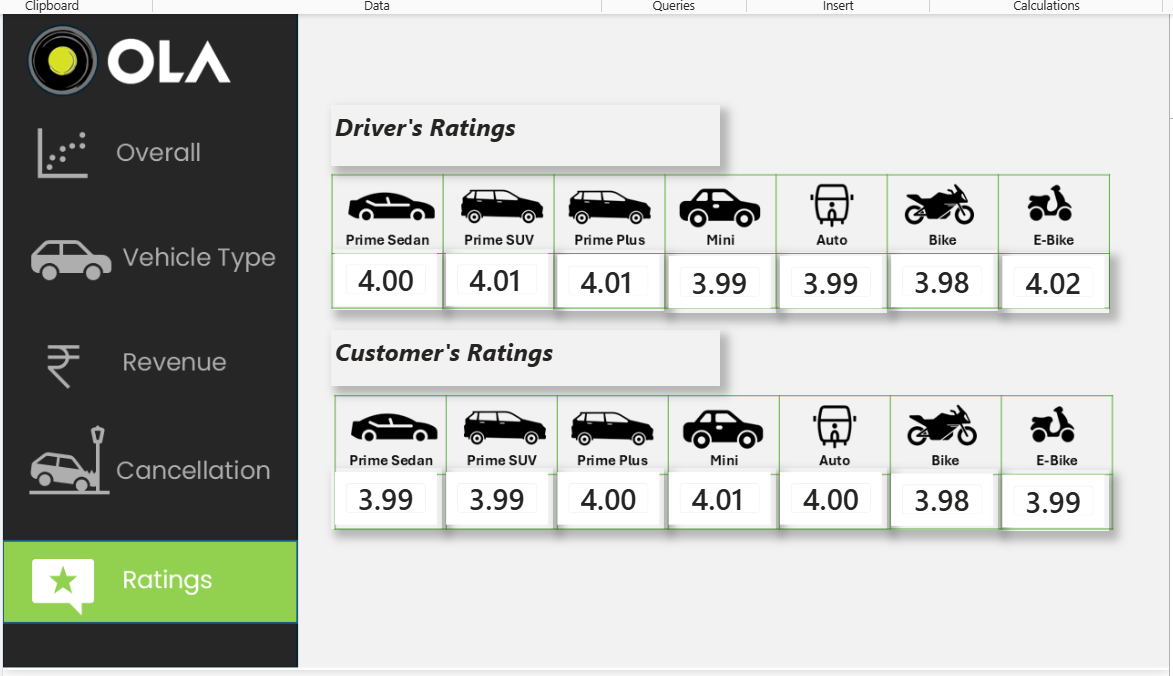

The dashboard page shown, as its layout file describes it:
{"tool":"powerbi","page":{"name":"Ratings","canvas":[1280,720],"ordinal":4},"visuals":[{"type":"actionButton","box":[0,200.3,325.7,114.6],"z":0},{"type":"actionButton","box":[0,109.8,325.7,114.6],"z":1000},{"type":"actionButton","box":[0,325.7,325.7,114.6],"z":2000},{"type":"actionButton","box":[0,440.4,325.7,114.6],"z":3000},{"type":"actionButton","box":[0,564.6,325.7,114.6],"z":4000},{"type":"cardVisual","fields":{"Data":["Avg(July.Driver_Ratings)"]},"box":[360,258.3,122.1,67.3],"z":5000},{"type":"cardVisual","fields":{"Data":["Avg(July.Driver_Ratings)"]},"box":[482.1,258.3,122.1,67.3],"z":6000},{"type":"cardVisual","fields":{"Data":["Avg(July.Driver_Ratings)"]},"box":[604.2,259.8,122.1,67.3],"z":7000},{"type":"cardVisual","fields":{"Data":["Avg(July.Driver_Ratings)"]},"box":[726.2,261.4,122.1,67.3],"z":8000},{"type":"cardVisual","fields":{"Data":["Avg(July.Driver_Ratings)"]},"box":[848.3,261.4,122.1,67.3],"z":9000},{"type":"cardVisual","fields":{"Data":["Avg(July.Driver_Ratings)"]},"box":[970.4,259.8,122.1,67.3],"z":10000},{"type":"cardVisual","fields":{"Data":["Avg(July.Driver_Ratings)"]},"box":[1092.5,261.4,122.1,67.3],"z":11000},{"type":"cardVisual","fields":{"Data":["Avg(July.Customer_Rating)"]},"box":[360,497.7,122.1,67.3],"z":12000},{"type":"cardVisual","fields":{"Data":["Avg(July.Customer_Rating)"]},"box":[482.1,497.7,122.1,67.3],"z":13000},{"type":"cardVisual","fields":{"Data":["Avg(July.Customer_Rating)1"]},"box":[604.2,497.7,122.1,67.3],"z":14000},{"type":"cardVisual","fields":{"Data":["Avg(July.Customer_Rating)1"]},"box":[726.2,497.7,122.1,67.3],"z":15000},{"type":"cardVisual","fields":{"Data":["Avg(July.Customer_Rating)1"]},"box":[848.3,497.7,122.1,67.3],"z":16000},{"type":"cardVisual","fields":{"Data":["Avg(July.Customer_Rating)1"]},"box":[970.4,499.3,122.1,67.3],"z":17000},{"type":"cardVisual","fields":{"Data":["Avg(July.Customer_Rating)1"]},"box":[1092.5,500.9,122.1,67.3],"z":18000},{"type":"textbox","box":[360,100.2,427.3,67.3],"z":19000},{"type":"textbox","box":[360,347.5,427.3,61],"z":20000}]}

Visuals, with their boxes on the page's 1280x720 design canvas (x1, y1, x2, y2). These are canvas units, not pixel positions in the 1173x676 screenshot, which may show the page scaled, cropped or inside an application window:
actionButton: x1=0, y1=200, x2=326, y2=315
actionButton: x1=0, y1=110, x2=326, y2=224
actionButton: x1=0, y1=326, x2=326, y2=440
actionButton: x1=0, y1=440, x2=326, y2=555
actionButton: x1=0, y1=565, x2=326, y2=679
cardVisual - Avg(July.Driver_Ratings): x1=360, y1=258, x2=482, y2=326
cardVisual - Avg(July.Driver_Ratings): x1=482, y1=258, x2=604, y2=326
cardVisual - Avg(July.Driver_Ratings): x1=604, y1=260, x2=726, y2=327
cardVisual - Avg(July.Driver_Ratings): x1=726, y1=261, x2=848, y2=329
cardVisual - Avg(July.Driver_Ratings): x1=848, y1=261, x2=970, y2=329
cardVisual - Avg(July.Driver_Ratings): x1=970, y1=260, x2=1092, y2=327
cardVisual - Avg(July.Driver_Ratings): x1=1092, y1=261, x2=1215, y2=329
cardVisual - Avg(July.Customer_Rating): x1=360, y1=498, x2=482, y2=565
cardVisual - Avg(July.Customer_Rating): x1=482, y1=498, x2=604, y2=565
cardVisual - Avg(July.Customer_Rating)1: x1=604, y1=498, x2=726, y2=565
cardVisual - Avg(July.Customer_Rating)1: x1=726, y1=498, x2=848, y2=565
cardVisual - Avg(July.Customer_Rating)1: x1=848, y1=498, x2=970, y2=565
cardVisual - Avg(July.Customer_Rating)1: x1=970, y1=499, x2=1092, y2=567
cardVisual - Avg(July.Customer_Rating)1: x1=1092, y1=501, x2=1215, y2=568
textbox: x1=360, y1=100, x2=787, y2=168
textbox: x1=360, y1=348, x2=787, y2=408
